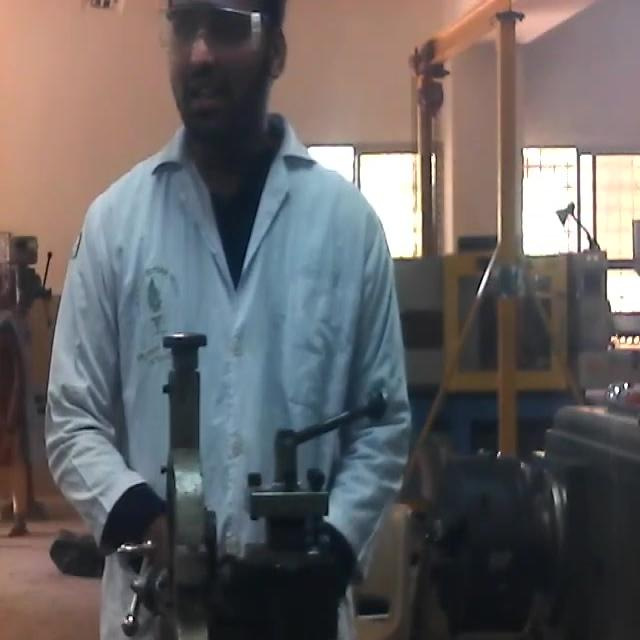googles: (154, 0, 280, 62)
labcoat: (42, 128, 417, 640)
